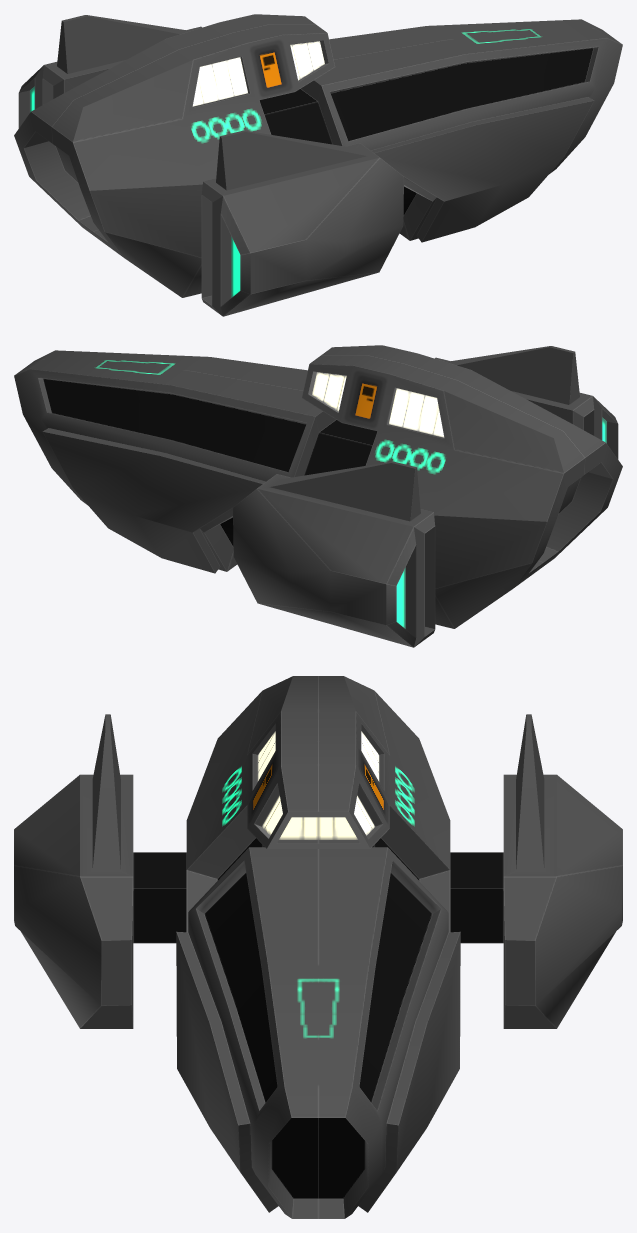
File: Prometheus.fbx
The picture shows the model from 3 angles, top to bottom: view 1: azimuth 30°, elevation 25°; view 2: azimuth 150°, elevation 25°; view 3: azimuth 270°, elevation 25°; orthographic projection. The views are drawn at different scales.
Visible parts, largest first — view 1: Cube; view 2: Cube; view 3: Cube.
Boxes of the visible parts, x1=… form: Cube: x1=14, y1=14, x2=622, y2=316; Cube: x1=14, y1=345, x2=622, y2=647; Cube: x1=14, y1=676, x2=622, y2=1218.
Size of the model in its own units: 663 by 260 by 468.
1 material, 1 textured.
